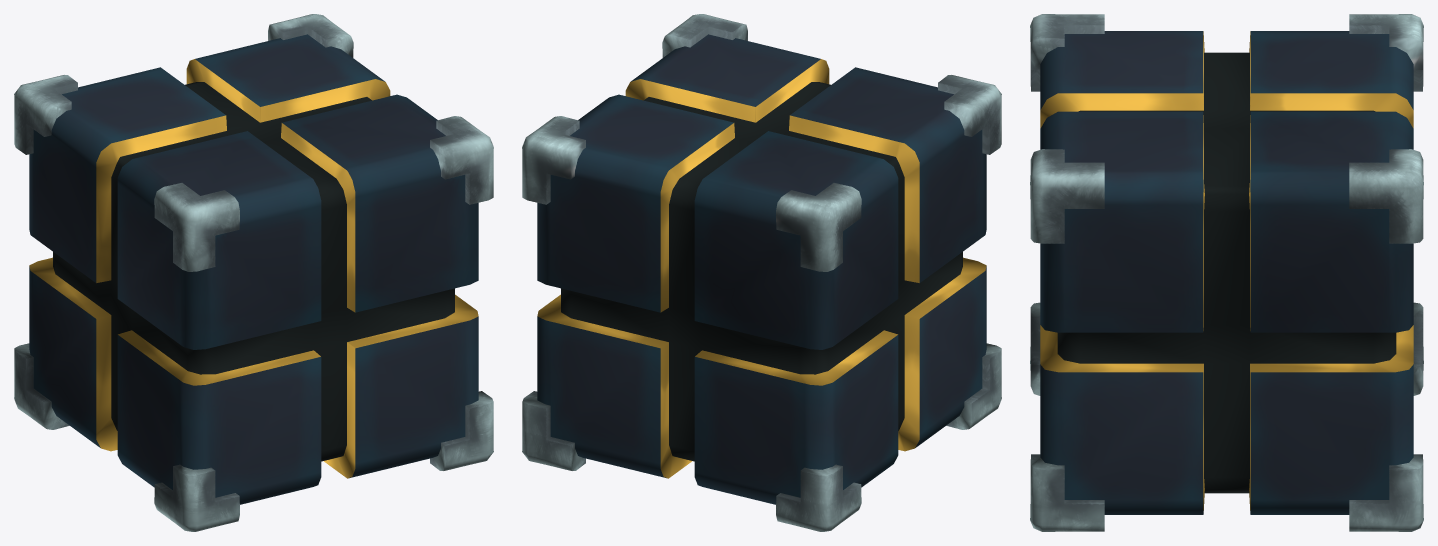
Rendered from PowerCubeAfterTexture_4.fbx.
3 renders of one model, left to right at view 1: azimuth 30°, elevation 25°; view 2: azimuth 150°, elevation 25°; view 3: azimuth 270°, elevation 25°, orthographic. The views are drawn at different scales.
Parts seen in each view (by area): view 1: PowerCube2; view 2: PowerCube2; view 3: PowerCube2.
Boxes of the visible parts, x1=… form: PowerCube2: x1=14, y1=14, x2=493, y2=531; PowerCube2: x1=522, y1=14, x2=1001, y2=531; PowerCube2: x1=1030, y1=14, x2=1423, y2=531.
Bounding box in the file's own units: 191 × 191 × 190.
Materials: 1 (1 with a texture image).
